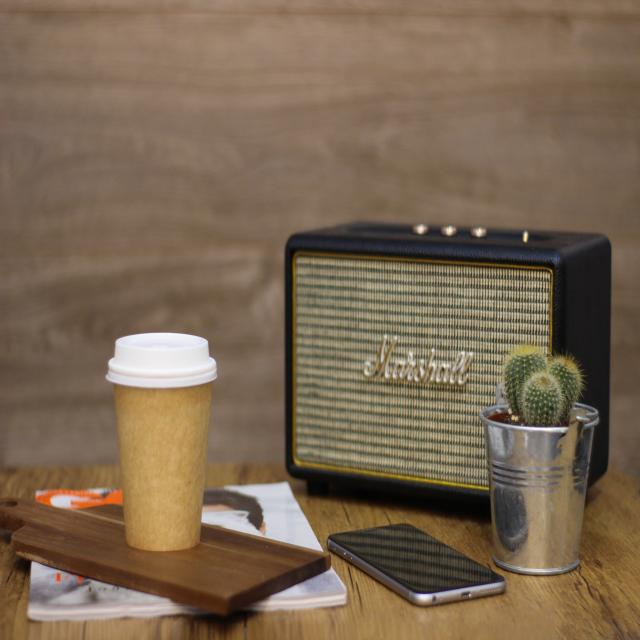cup: (107, 332, 216, 550)
